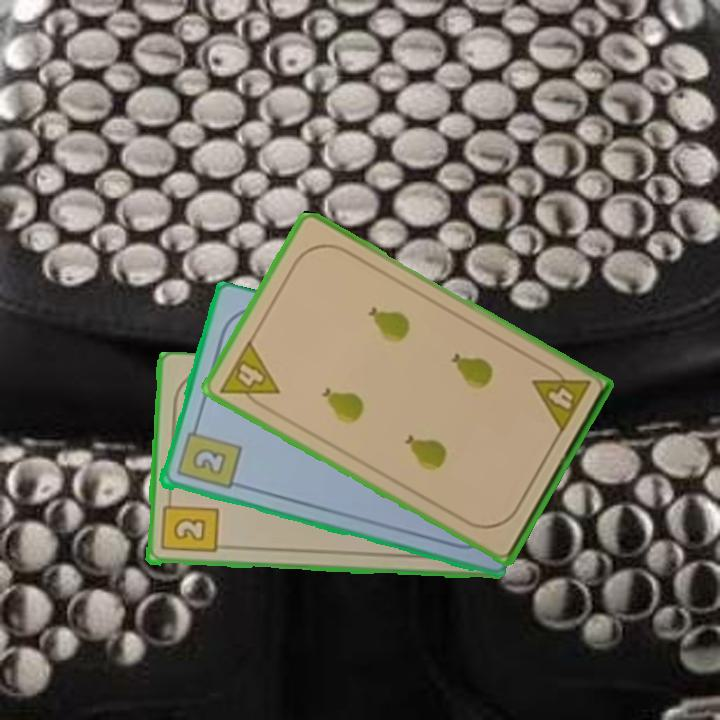2b: (172, 420, 243, 493), (157, 493, 220, 557)
4p: (216, 336, 283, 415), (528, 360, 593, 437)
